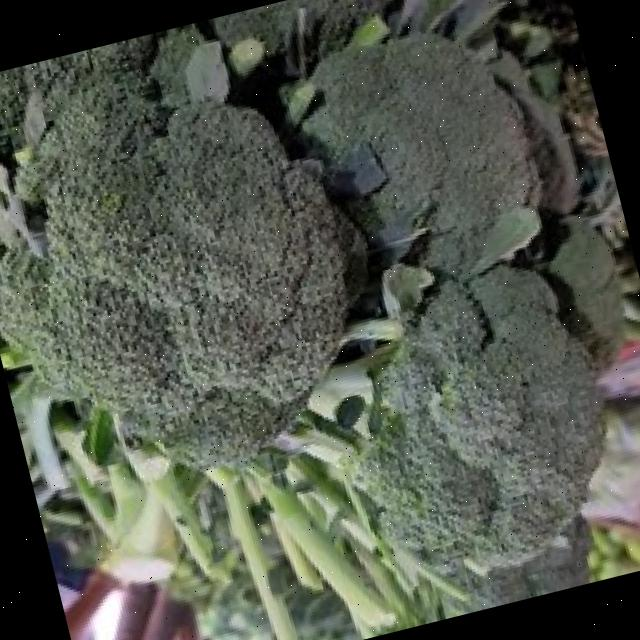Broccoli: (0, 27, 363, 468), (0, 26, 361, 460), (355, 266, 601, 571), (356, 266, 600, 566), (300, 32, 540, 279)
